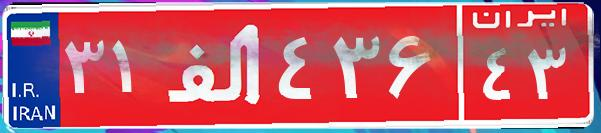1: (110, 28, 158, 105)
3: (330, 28, 385, 110), (57, 26, 110, 107), (525, 38, 570, 115)
4: (273, 28, 330, 110), (475, 38, 525, 113)
6: (385, 28, 445, 110)
الف: (158, 15, 273, 115)
